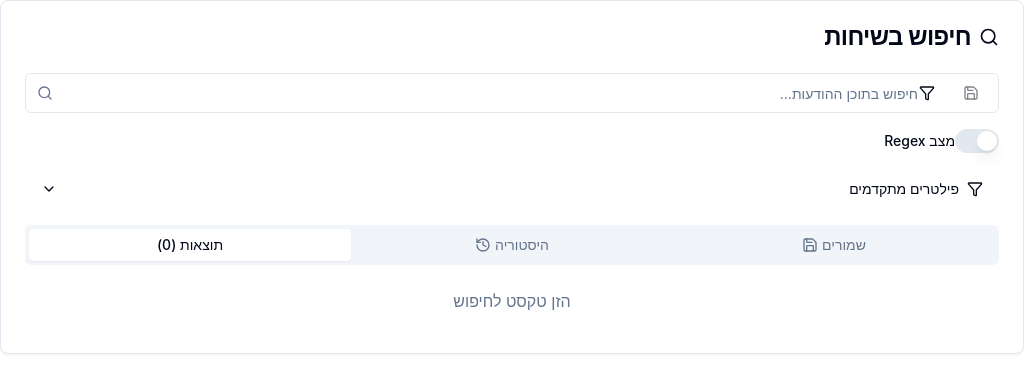
Test: SearchPanel › shows empty state when no results found
The image size is (1024, 371).
Step 1. Type "nonexistent search term" into the field with placeholder "חיפוש בתוכן ההודעות..." → (512, 93), box [25, 73, 999, 113]
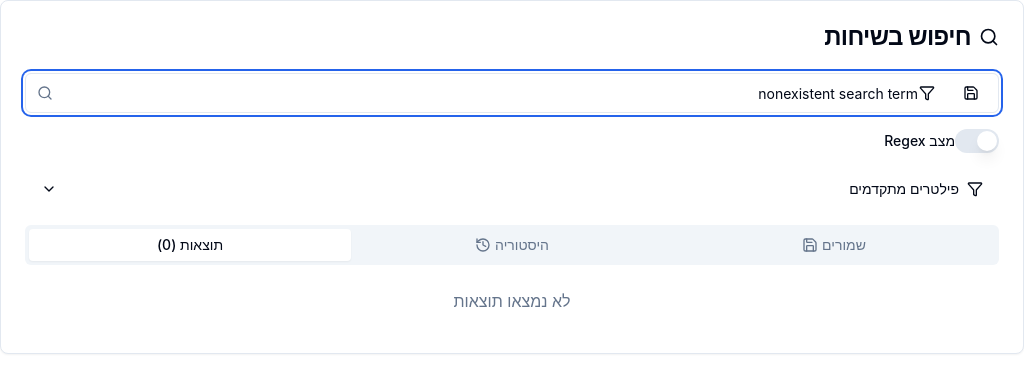
expect the text "לא נמצאו תוצאות" is shown: met, box [454, 291, 570, 311]
